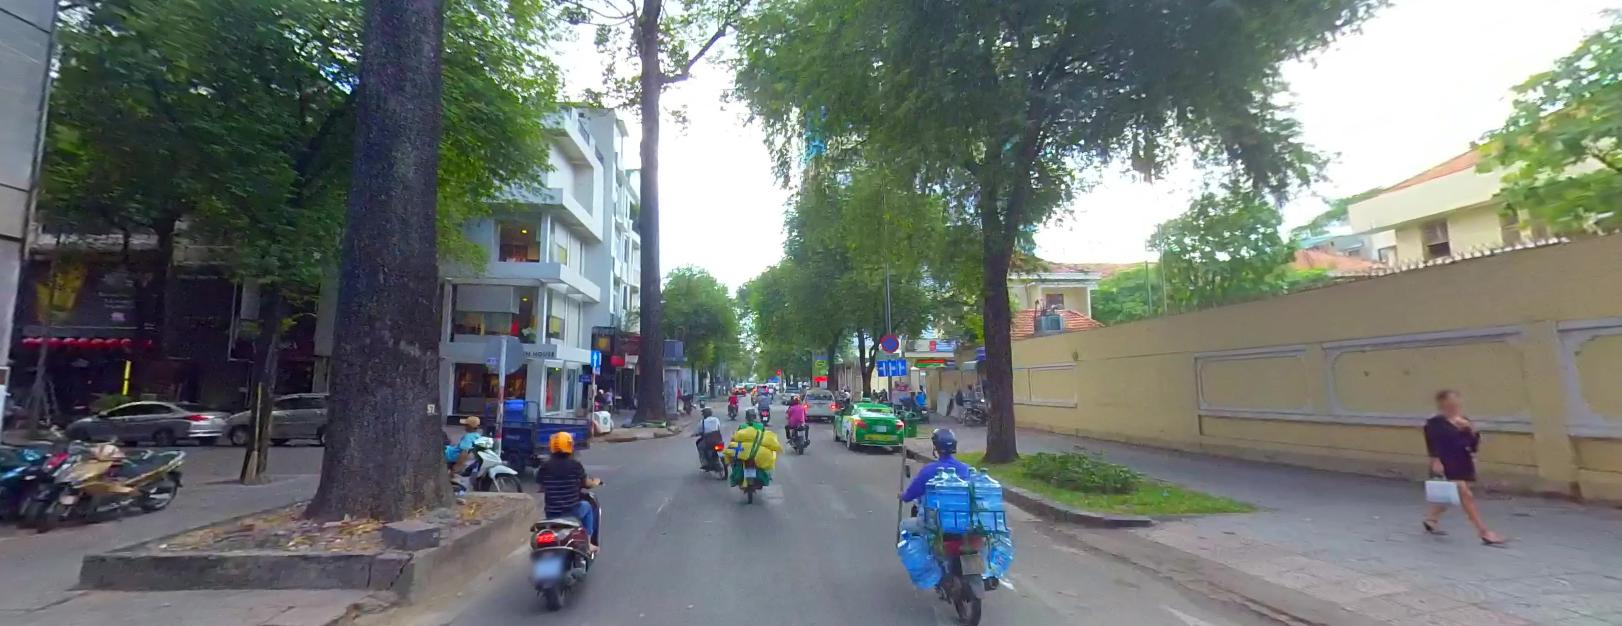Cam dung va do: (880, 333, 899, 351)
